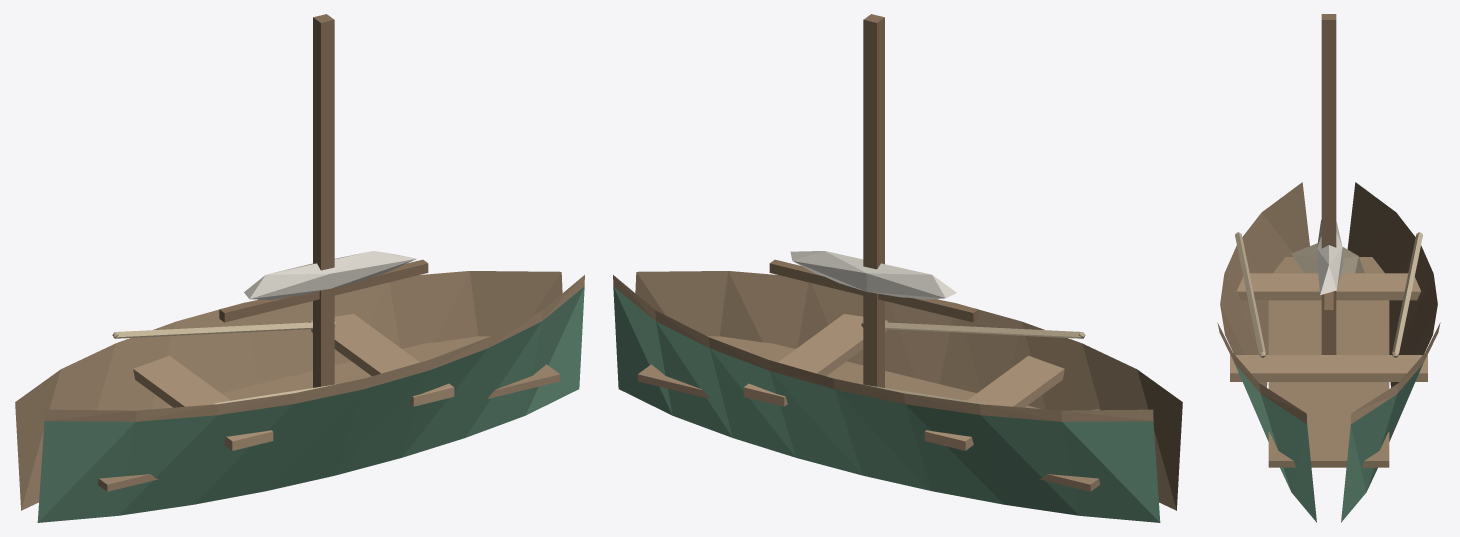
File: boat2.glb
The picture shows the model from 3 angles, left to right: view 1: azimuth 30°, elevation 25°; view 2: azimuth 150°, elevation 25°; view 3: azimuth 270°, elevation 25°; orthographic projection. The views are drawn at different scales.
Visible parts, largest first — view 1: boat2; view 2: boat2; view 3: boat2.
Boxes of the visible parts, x1,y1,x2,y2 form: boat2: [15, 14, 584, 522]; boat2: [613, 14, 1182, 522]; boat2: [1217, 14, 1440, 522].
Size of the model in its own units: 4.8 by 3.6 by 1.94.
